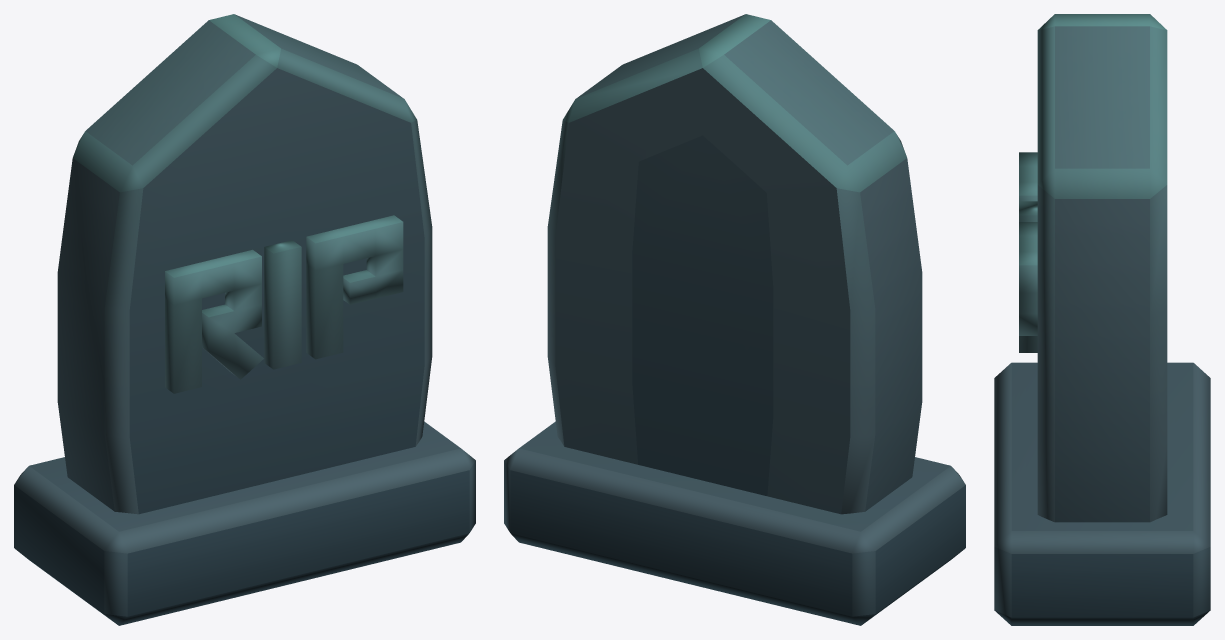
The model's file is grave_stone_2.fbx.
3 views of the same model, side by side, from view 1: azimuth 30°, elevation 25°; view 2: azimuth 150°, elevation 25°; view 3: azimuth 270°, elevation 25° (orthographic).
Parts seen in each view (by area): view 1: grave_stone_2; view 2: grave_stone_2; view 3: grave_stone_2.
Boxes of the visible parts, left/top/right/bottom form: grave_stone_2: left=14, top=14, right=475, bottom=625; grave_stone_2: left=504, top=14, right=965, bottom=625; grave_stone_2: left=994, top=14, right=1210, bottom=625.
Size of the model in its own units: 90 by 120 by 45.
